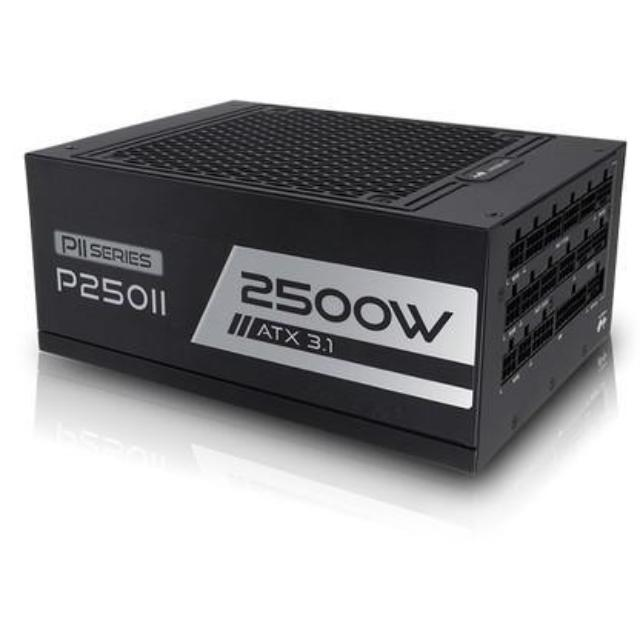PSU: (10, 88, 630, 477)
